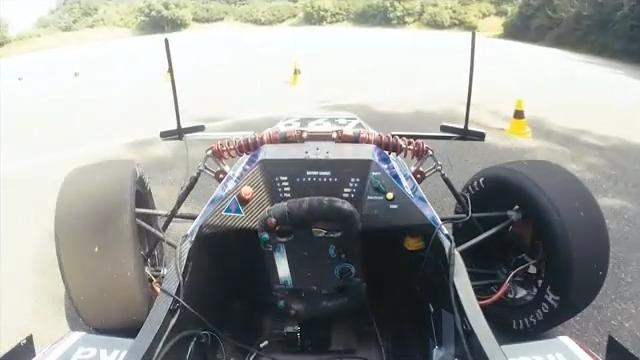yellow_cone: (505, 92, 534, 138), (289, 61, 307, 90), (162, 63, 177, 86), (69, 71, 81, 89), (16, 78, 26, 94)
